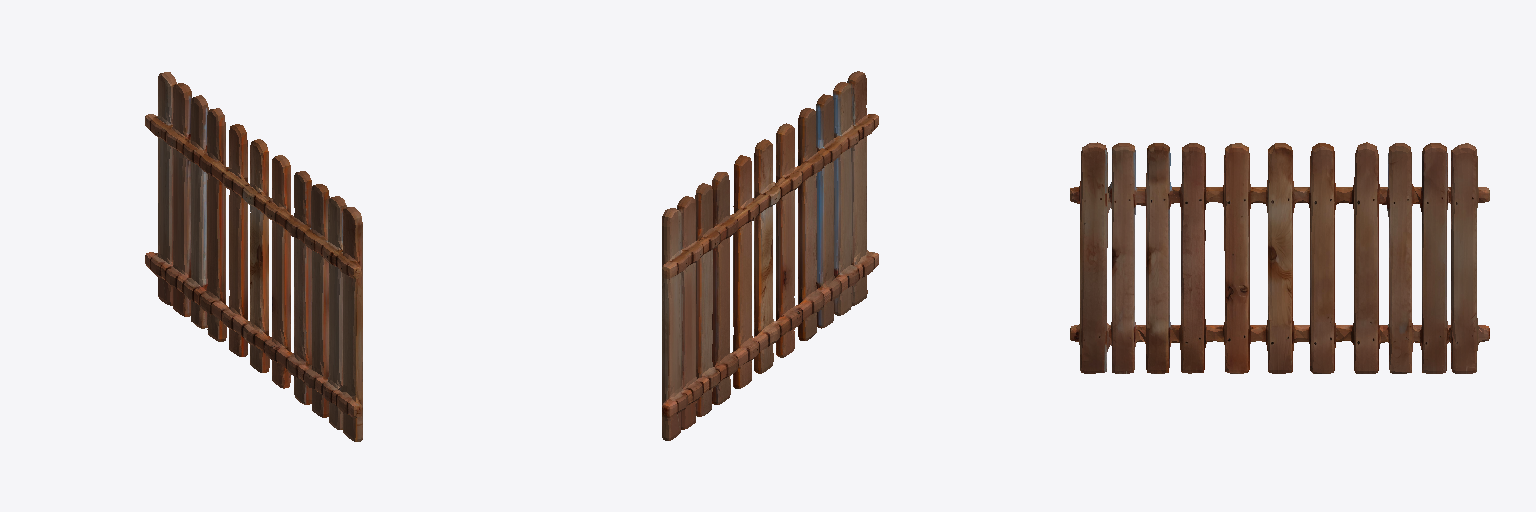
3 views of the same model, side by side, from view 1: azimuth 30°, elevation 25°; view 2: azimuth 150°, elevation 25°; view 3: azimuth 270°, elevation 25° (orthographic).
Parts seen in each view (by area): view 1: tripo_node_bfdec9d8-599e-48ae-97db-3efbd74a0a35; view 2: tripo_node_bfdec9d8-599e-48ae-97db-3efbd74a0a35; view 3: tripo_node_bfdec9d8-599e-48ae-97db-3efbd74a0a35.
Boxes of the visible parts, <box> form: tripo_node_bfdec9d8-599e-48ae-97db-3efbd74a0a35: <box>145,72,362,441</box>; tripo_node_bfdec9d8-599e-48ae-97db-3efbd74a0a35: <box>662,71,878,440</box>; tripo_node_bfdec9d8-599e-48ae-97db-3efbd74a0a35: <box>1070,142,1489,373</box>.
Bounding box in the file's own units: 0.0483 × 0.5705 × 0.9485.
1 materials, 1 textured.